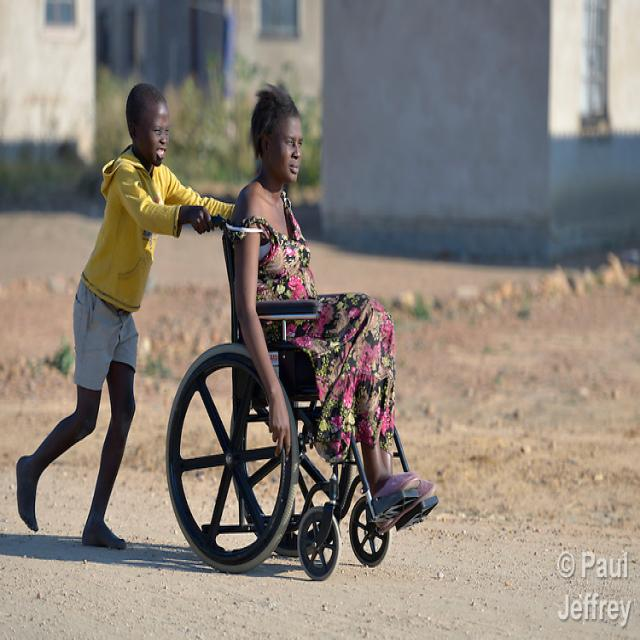wheelchairs: (151, 192, 454, 598)
